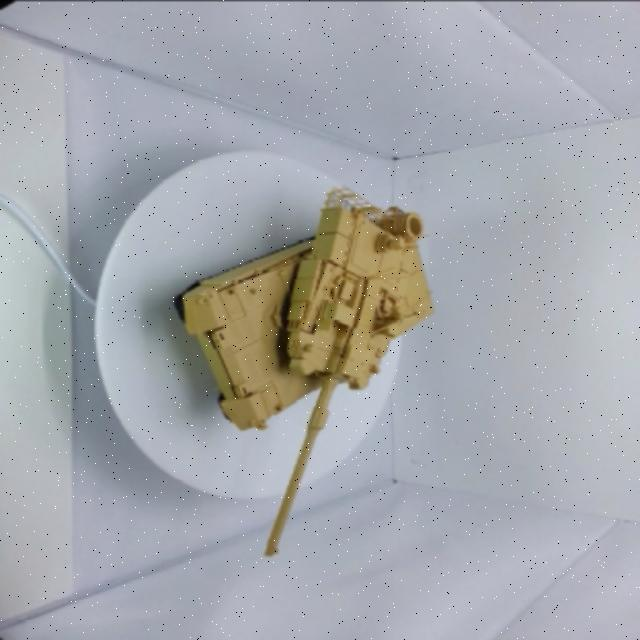korea tank: (150, 174, 462, 566)
